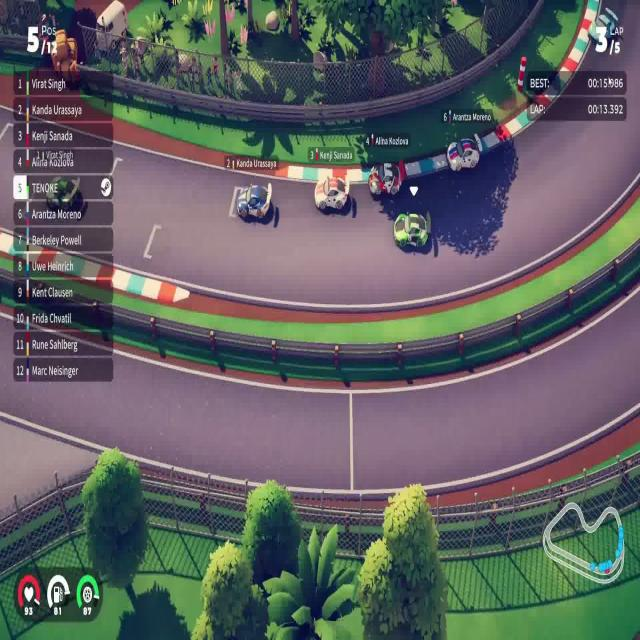car: (393, 209, 431, 250), (236, 180, 272, 222), (314, 174, 350, 214), (368, 160, 402, 199), (446, 136, 480, 173)
